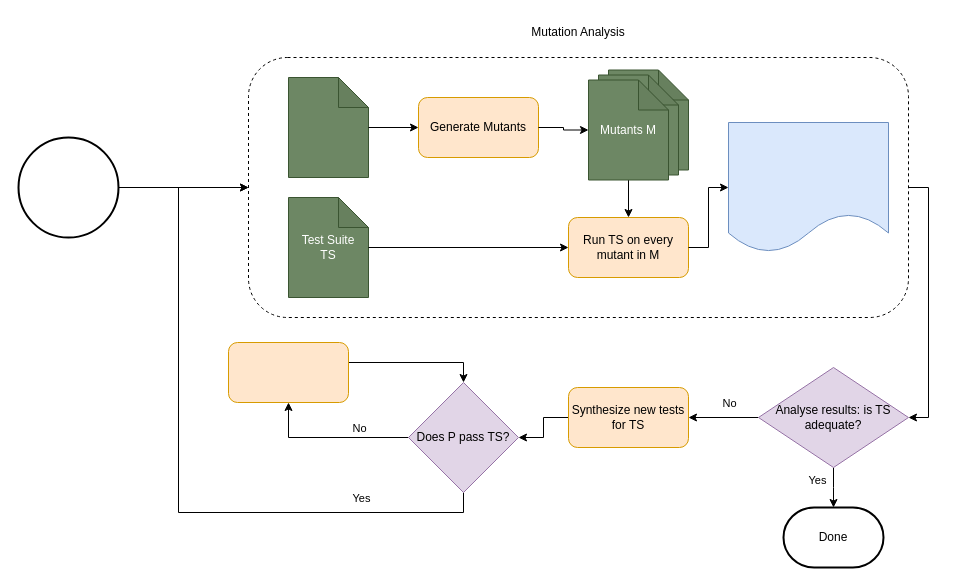
Some shapes in this 954 by 585 pixel diagram are drawn without their labels. Each missing label, with the centre of its shape:
"Fix P" belongs at pixel 288 372.
"Mutation Score Killed/Surviving Mutants Kill Matrix Report" belongs at pixel 808 187.
"Program P" belongs at pixel 328 127.
"Start" belongs at pixel 68 187.
